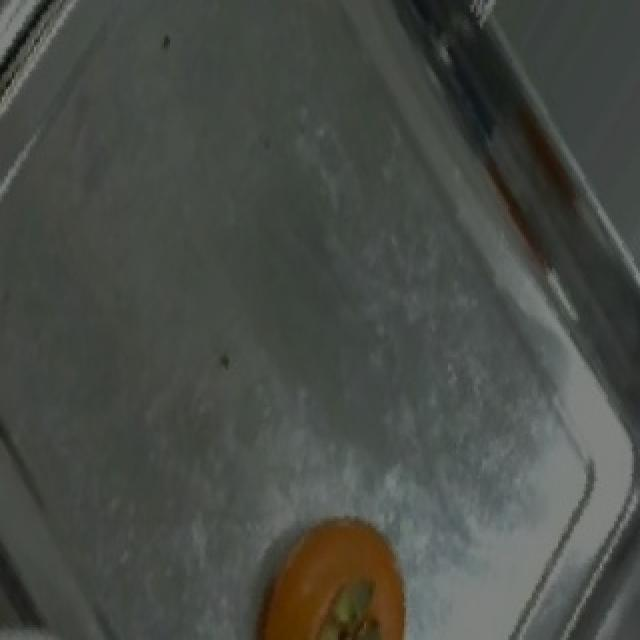Fruit: (238, 501, 426, 640)
